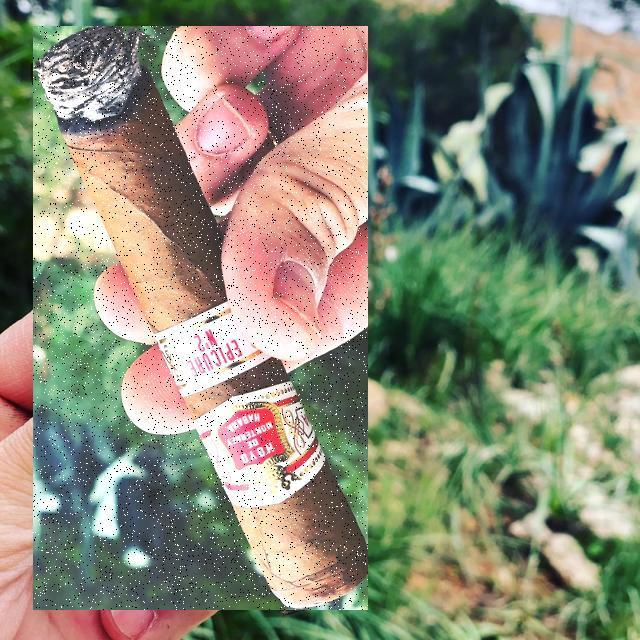smoking: (33, 26, 368, 610)
